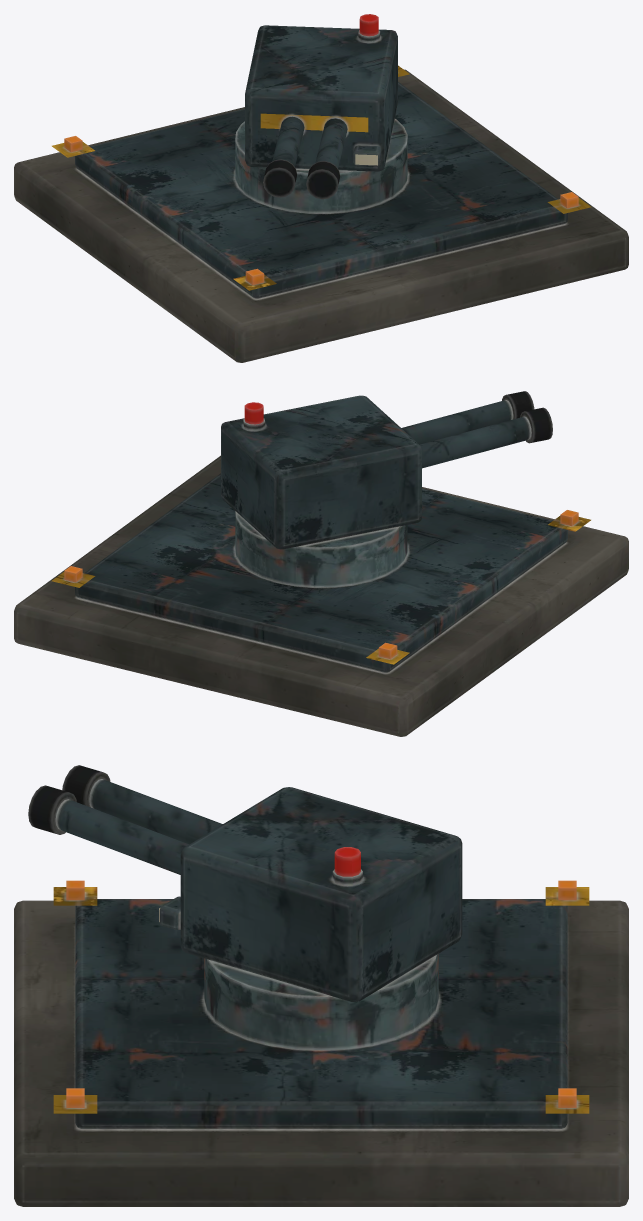
Rendered from autocannon.glb.
The picture shows the model from 3 angles, top to bottom: view 1: azimuth 30°, elevation 25°; view 2: azimuth 150°, elevation 25°; view 3: azimuth 270°, elevation 25°; orthographic projection. The views are drawn at different scales.
Parts seen in each view (by area): view 1: te_autocannon; view 2: te_autocannon; view 3: te_autocannon.
Part boxes in pixels (x1,y1,x2,y2): te_autocannon: [14, 14, 628, 362]; te_autocannon: [14, 391, 628, 736]; te_autocannon: [14, 765, 628, 1206].
Size of the model in its own units: 0.84 by 0.4008 by 0.84.
1 material, 1 textured.
